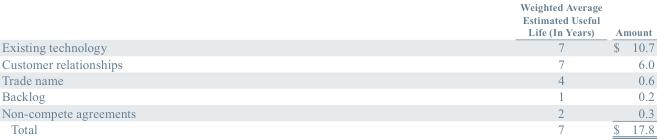table: (0, 1, 653, 135)
table column: (0, 1, 327, 135), (327, 1, 606, 135), (606, 1, 653, 135)
table column header: (0, 1, 653, 38)
table row: (0, 1, 653, 38), (0, 38, 653, 55), (0, 87, 653, 104), (0, 55, 653, 71), (0, 71, 653, 87), (0, 104, 653, 120), (0, 120, 653, 135)
